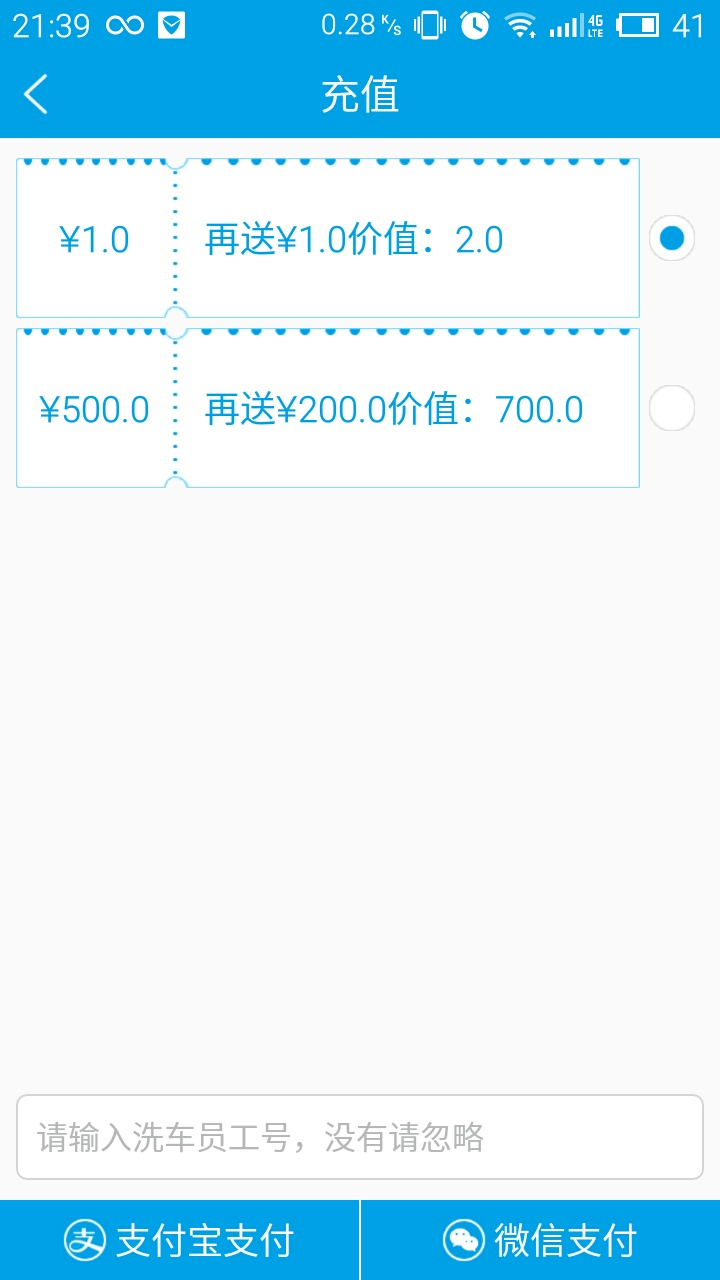button: (351, 1190, 720, 1277), (9, 1198, 370, 1280)
checkboxs: (644, 187, 705, 502)
textview: (8, 146, 641, 508), (10, 1081, 717, 1184)
